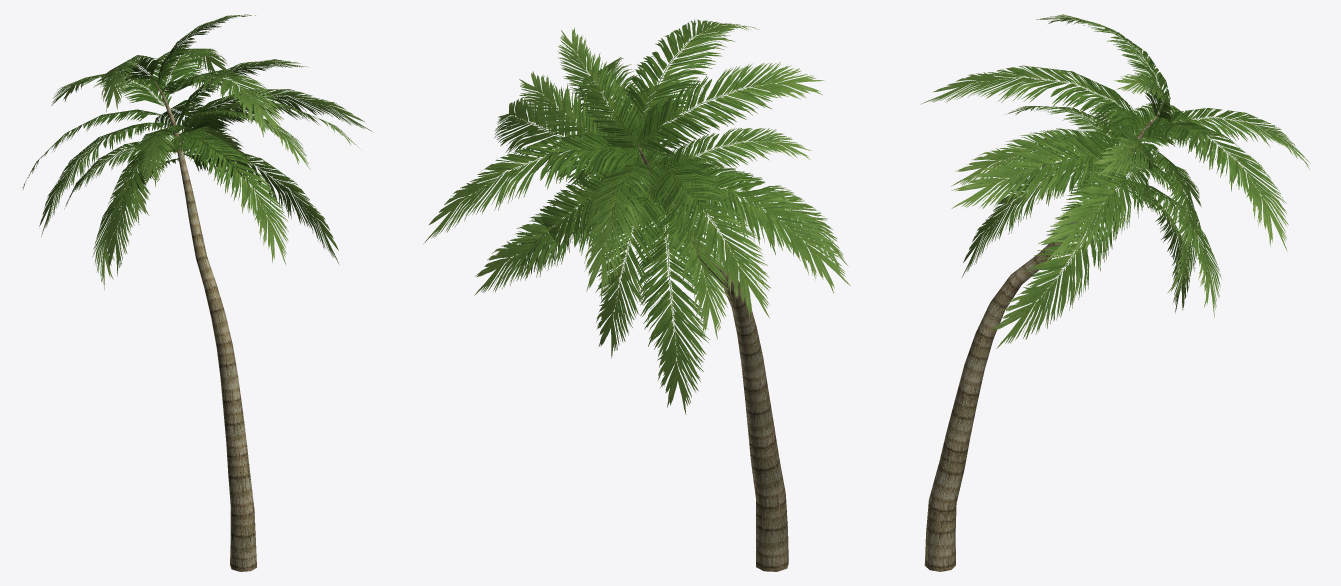
File: palm.obj
3 views of the same model, side by side, from view 1: azimuth 30°, elevation 25°; view 2: azimuth 150°, elevation 25°; view 3: azimuth 270°, elevation 25° (orthographic). The views are drawn at different scales.
Bounding box in the file's own units: 20.97 × 30 × 21.34.
Materials: 2 (2 with a texture image).
